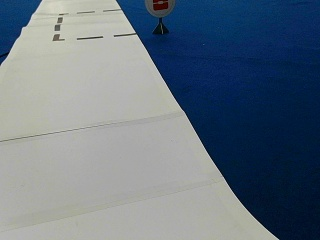company: (145, 0, 175, 16)
